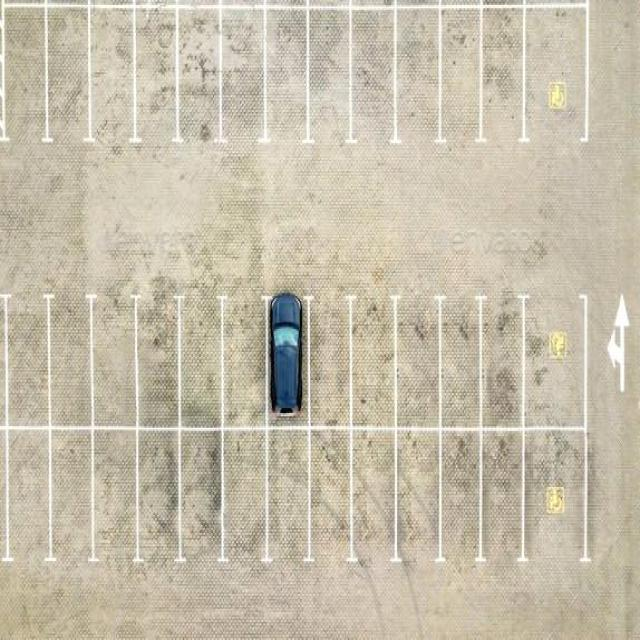space-empty: (522, 420, 593, 572), (523, 1, 593, 154), (520, 287, 589, 438), (85, 422, 143, 567), (214, 426, 274, 566), (582, 1, 638, 150), (88, 290, 147, 431), (0, 421, 55, 568), (214, 2, 270, 146), (300, 2, 356, 146), (130, 425, 186, 568), (174, 427, 231, 567), (88, 2, 143, 147), (259, 428, 317, 565), (259, 1, 314, 145), (0, 289, 56, 430), (44, 287, 100, 428), (391, 2, 445, 148), (476, 289, 530, 435), (344, 426, 399, 569), (304, 427, 360, 567), (392, 289, 448, 429), (43, 2, 97, 147), (46, 423, 101, 565), (345, 2, 399, 146), (130, 2, 183, 148), (392, 425, 445, 570), (130, 292, 186, 429), (476, 422, 528, 569), (478, 2, 530, 149), (173, 3, 226, 146), (214, 294, 270, 428), (436, 291, 489, 432), (0, 2, 52, 144), (347, 292, 401, 428), (438, 2, 488, 148), (174, 296, 229, 428), (438, 424, 487, 570), (306, 296, 359, 427)
space-occupied: (262, 293, 314, 423)
